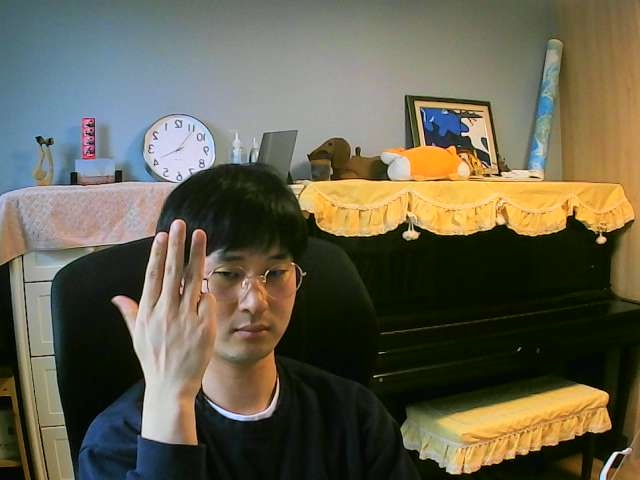four: (98, 204, 237, 404)
